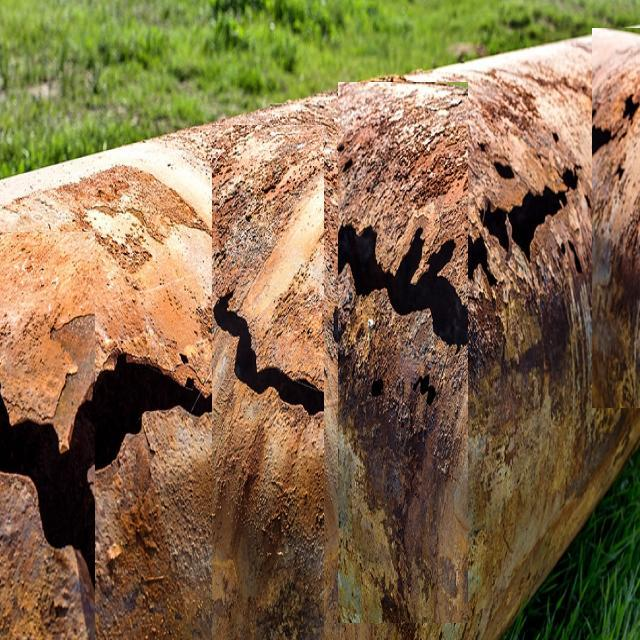Corrosion: (1, 166, 207, 270), (366, 83, 467, 284), (470, 63, 580, 214), (213, 126, 298, 266)
